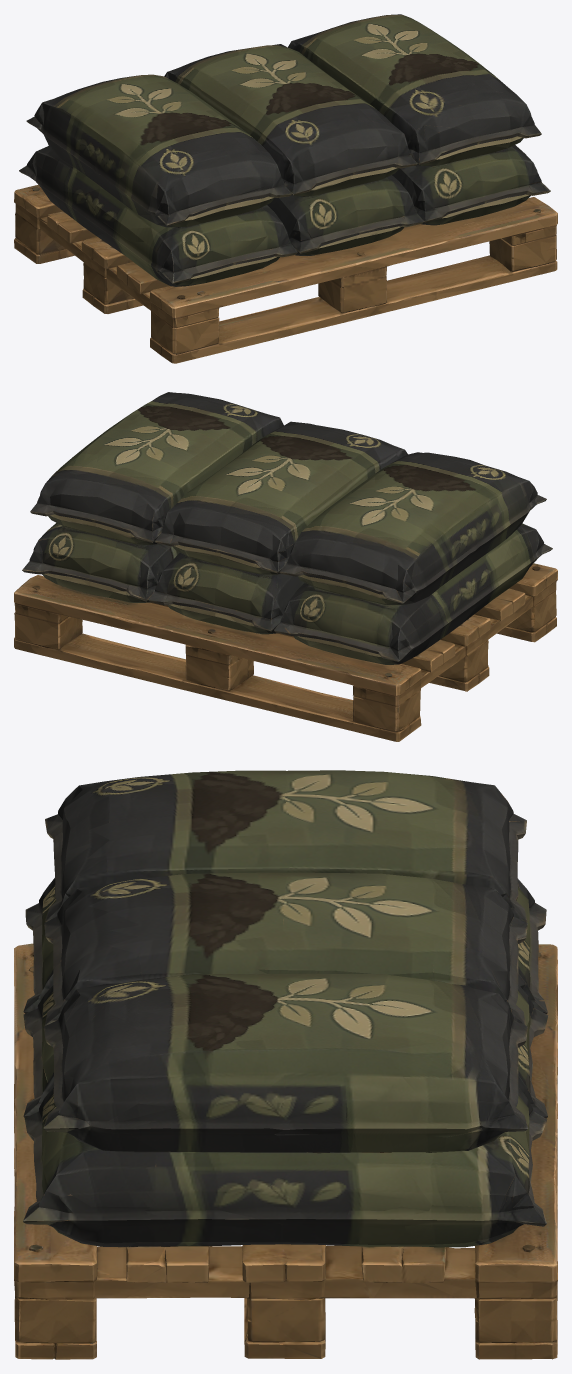
Rendered from soil-pallet.glb.
3 views of the same model, one above another, from view 1: azimuth 30°, elevation 25°; view 2: azimuth 150°, elevation 25°; view 3: azimuth 270°, elevation 25° (orthographic). The views are drawn at different scales.
Visible parts, largest first — view 1: mesh_node; view 2: mesh_node; view 3: mesh_node.
Boxes of the visible parts, x1,y1,x2,y2 form: mesh_node: [14, 14, 557, 363]; mesh_node: [14, 392, 557, 741]; mesh_node: [14, 770, 557, 1359].
Bounding box in the file's own units: 1.9 × 0.8334 × 1.37.
Materials: 1 (1 with a texture image).
